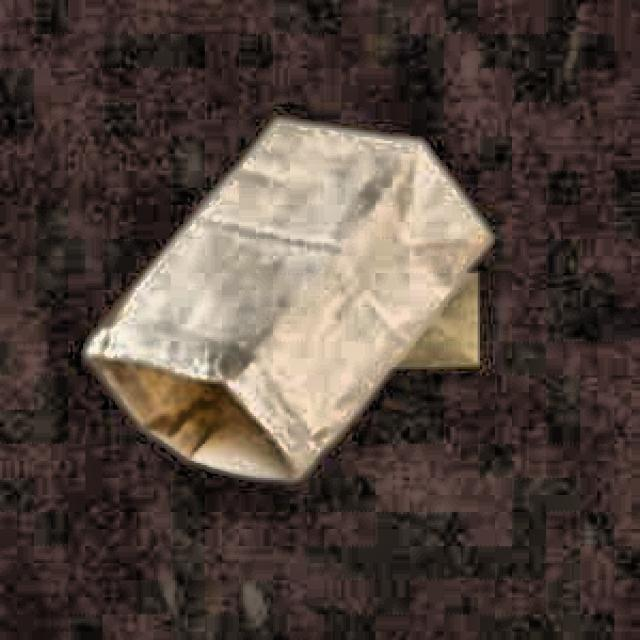Paper-bag: (84, 110, 497, 496), (228, 253, 490, 395)
